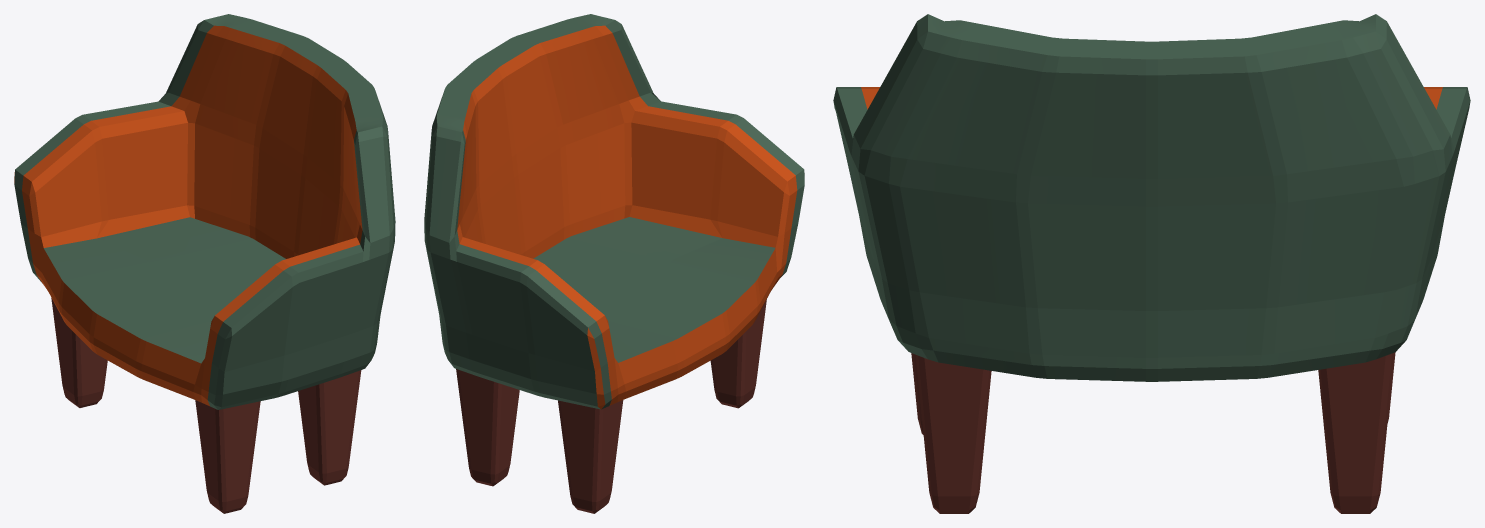
The model's file is chair_diningroom.fbx.
The picture shows the model from 3 angles, left to right: view 1: azimuth 30°, elevation 25°; view 2: azimuth 150°, elevation 25°; view 3: azimuth 270°, elevation 25°; orthographic projection. The views are drawn at different scales.
Visible parts, largest first — view 1: Cube.041, table_diningroom.001, Cube.005; view 2: Cube.041, table_diningroom.001, Cube.005; view 3: table_diningroom.001, Cube.005.
Part boxes in pixels (x1,y1,x2,y2): Cube.041: (14,25,362,406); table_diningroom.001: (14,14,395,409); Cube.005: (51,298,361,513); Cube.041: (457,25,797,409); table_diningroom.001: (424,14,804,409); Cube.005: (456,299,766,513); table_diningroom.001: (833,14,1470,381); Cube.005: (911,352,1395,513).
Bounding box in the file's own units: 67.96 × 88.73 × 101.
